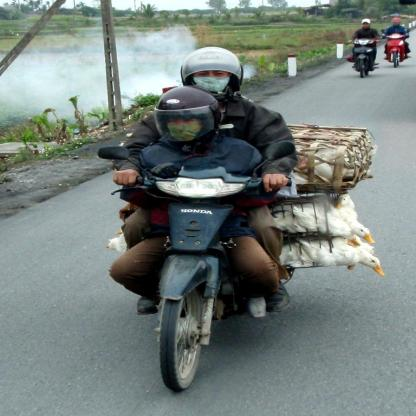Helmet: (155, 88, 225, 154), (184, 48, 246, 93)
